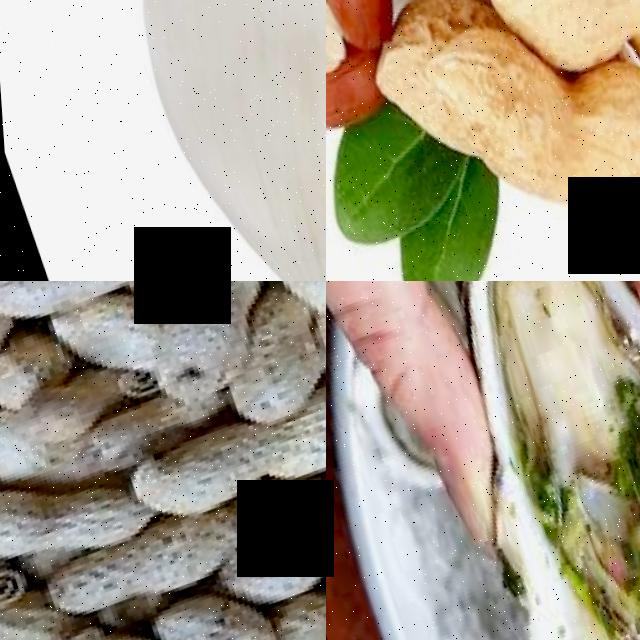oysters: (418, 281, 640, 640)
peanuts: (395, 0, 557, 206), (130, 389, 326, 536), (33, 510, 250, 637), (540, 49, 640, 262), (120, 281, 270, 418), (0, 467, 142, 585), (209, 525, 326, 625), (0, 281, 169, 340), (425, 0, 611, 49), (262, 281, 326, 397), (139, 587, 255, 640), (326, 0, 413, 45)
